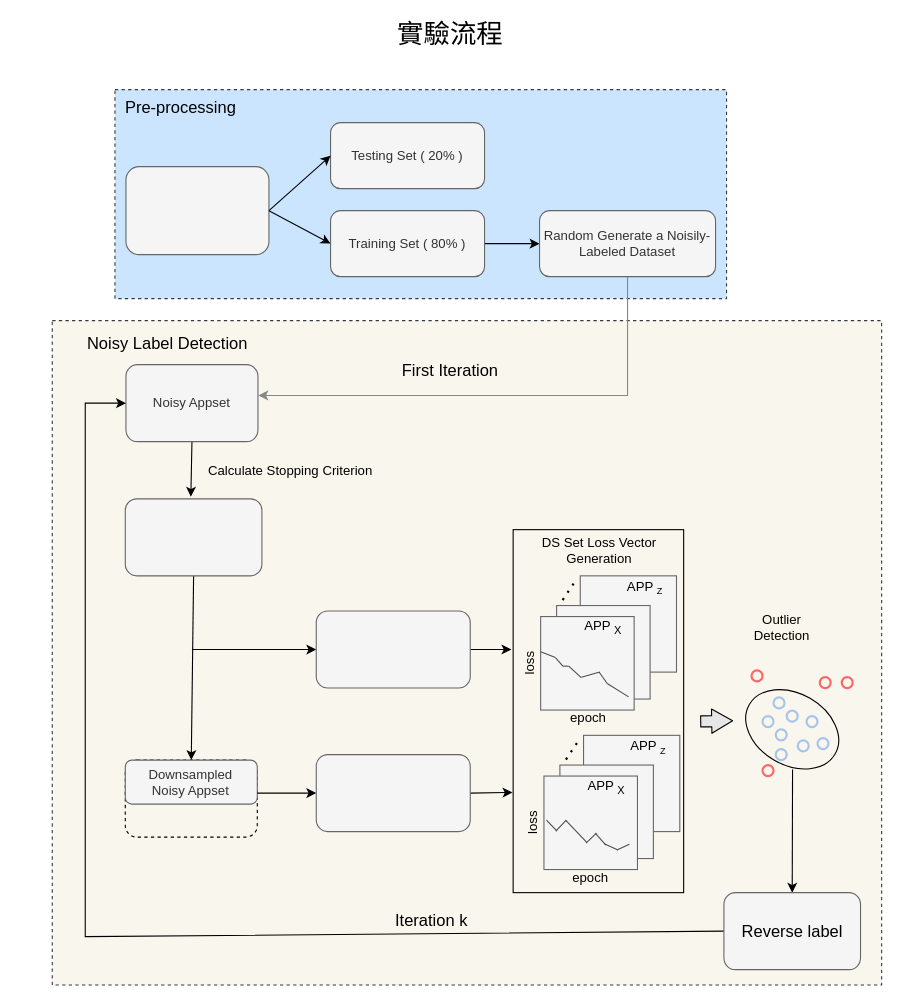
The diagram is 901 pixels wide and 1004 high, and some of its shapes have lost their labels. Each missing label, with the box of its shape:
Cross Validation: (124, 498, 262, 576)
Ground-Truth Dataset: (125, 166, 269, 255)
Training of DS Model: (315, 754, 470, 832)
Training of WS Model: (315, 610, 470, 688)
